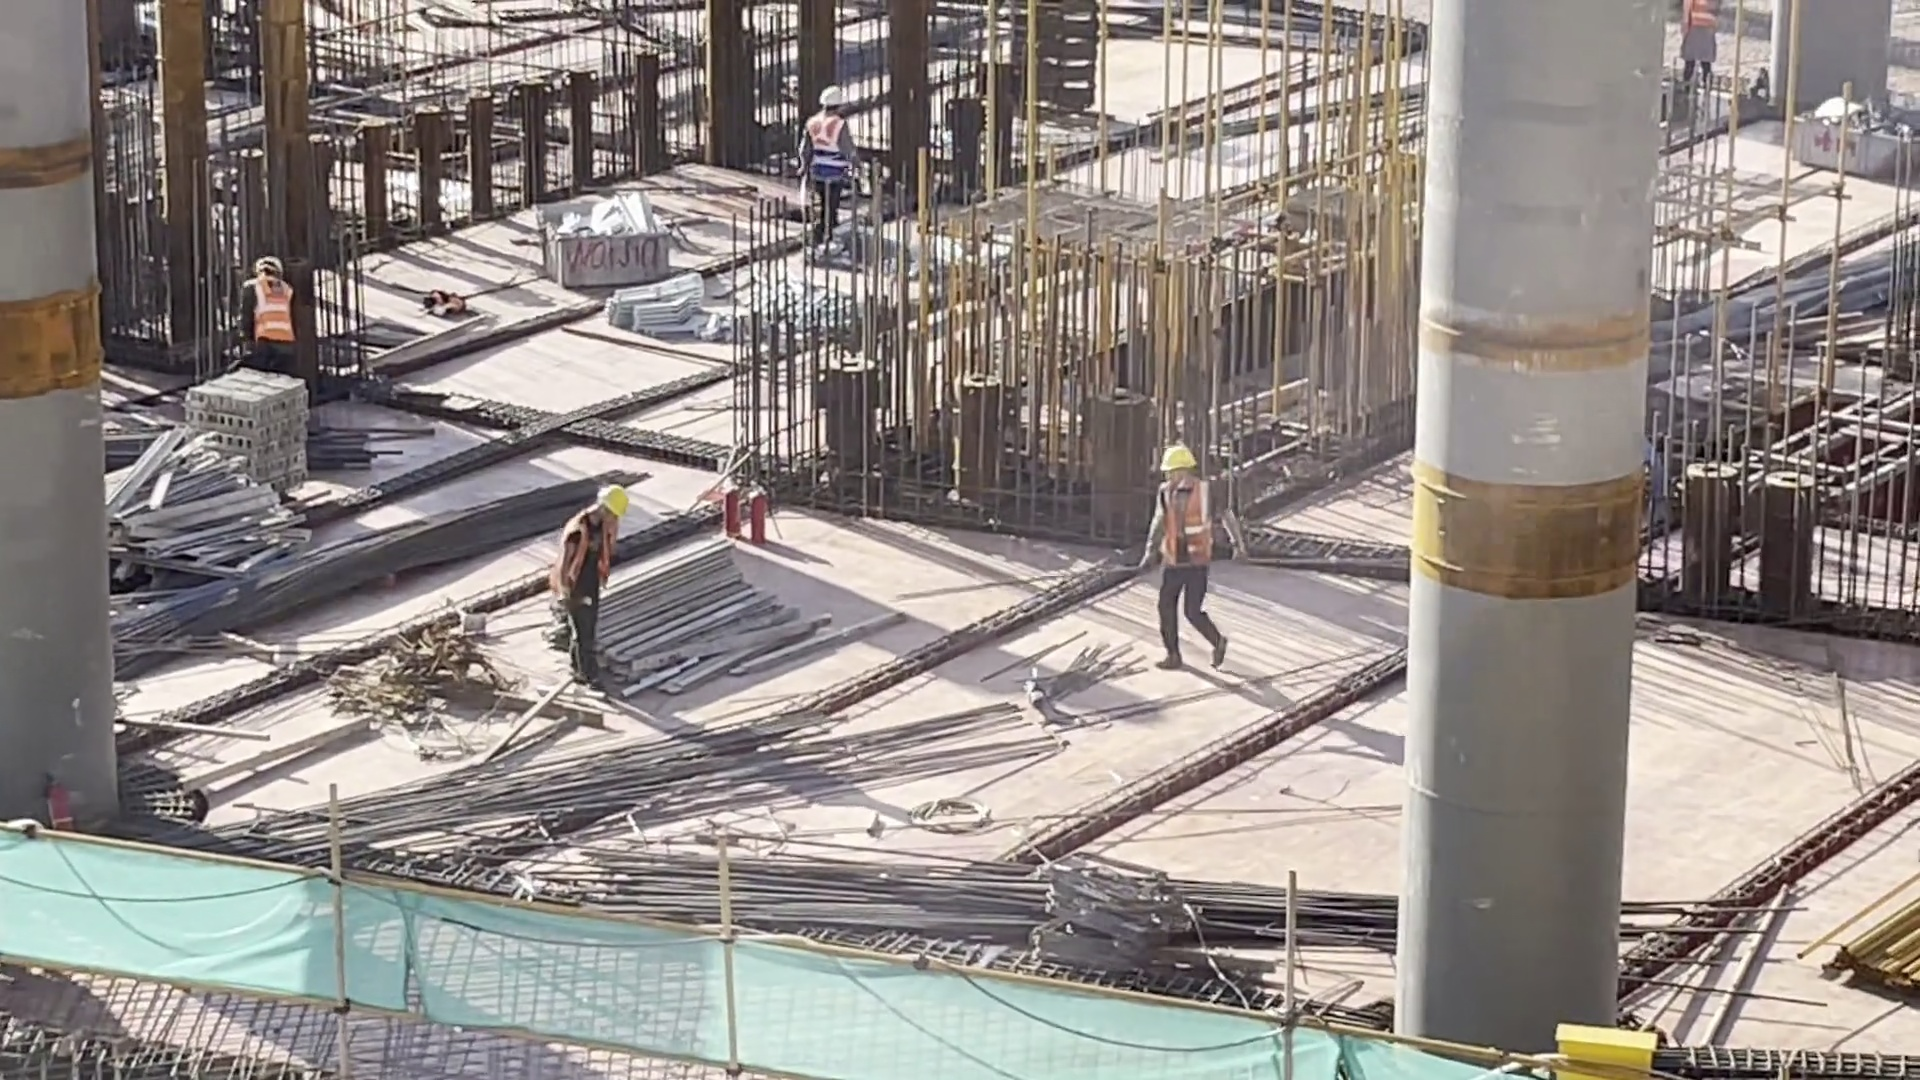ebox: (1555, 1001, 1658, 1080)
helmet: (1153, 441, 1204, 479), (593, 478, 631, 526), (819, 82, 852, 107)
hopper: (530, 187, 685, 291)
person: (1132, 434, 1233, 652), (564, 463, 628, 683), (221, 248, 307, 382), (793, 68, 859, 235)
vest: (550, 501, 613, 613), (1152, 478, 1220, 578), (804, 111, 857, 190), (246, 278, 297, 348)
wood: (536, 539, 786, 694)
